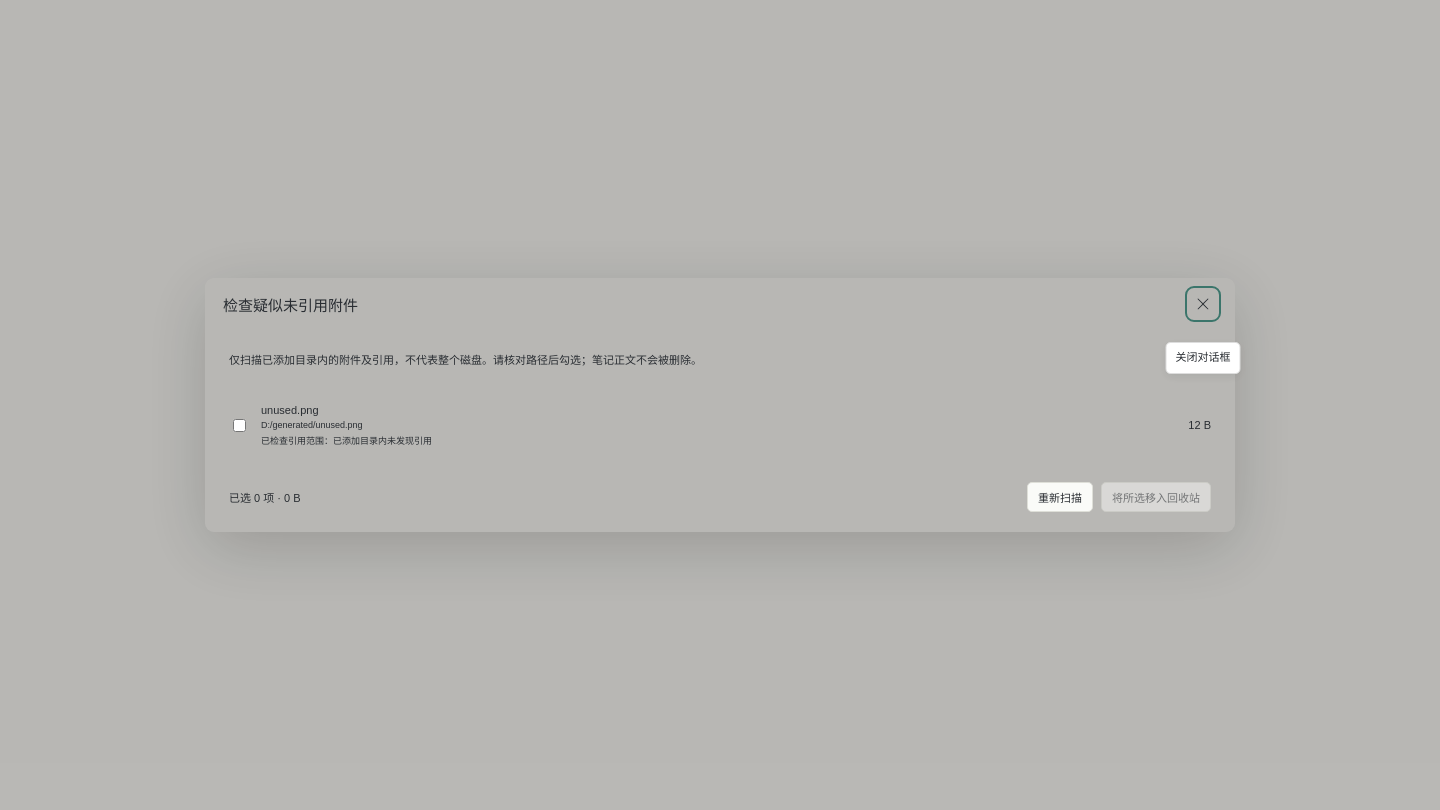
Test case: drops an old selection when a new scan finds its references uncertain
Click the checkbox labelled "unused.png D:/generated/unused.png 已检查引用范围：已添加目录内未发现引用 12 B": (240, 425) [233,419,246,432]
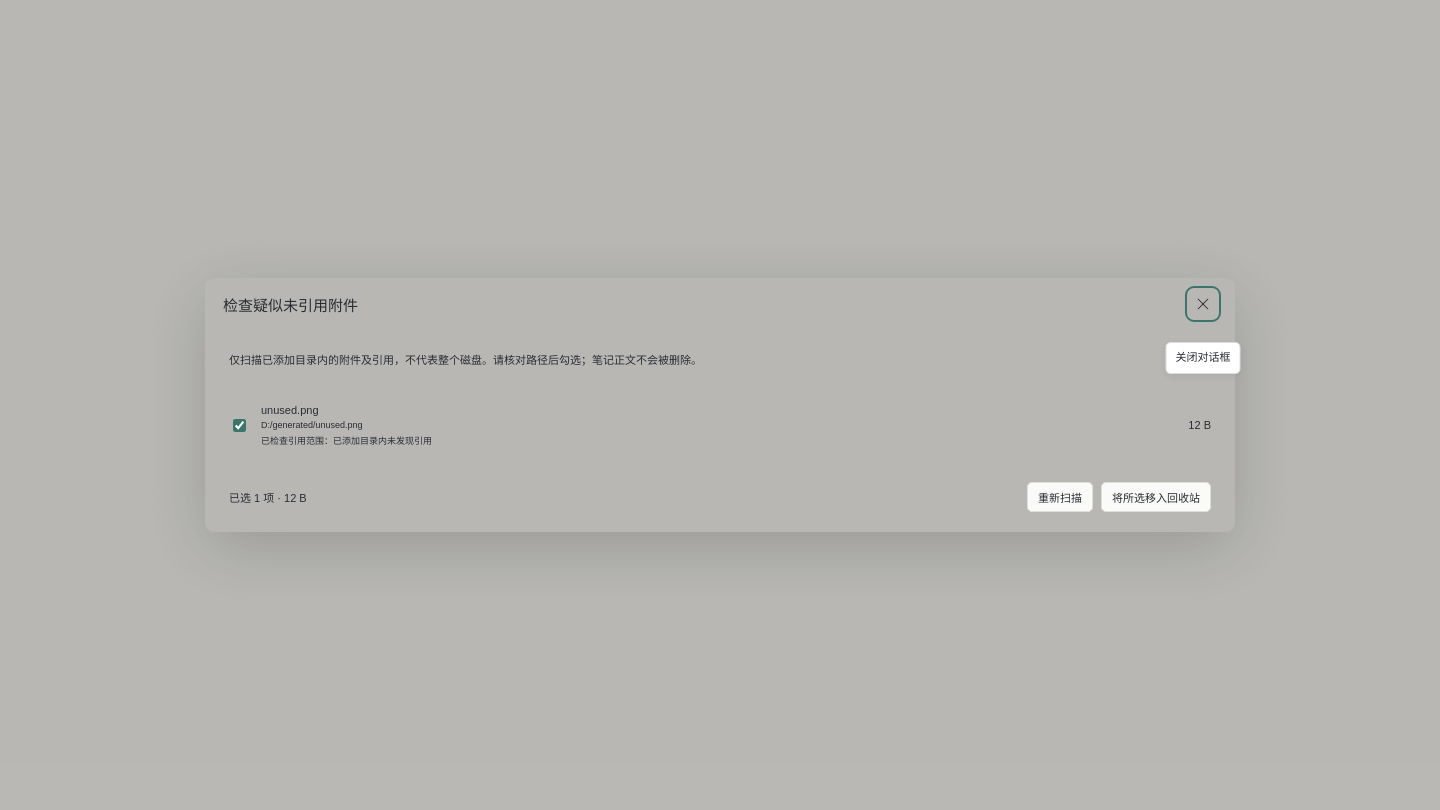
Now the text "已选 1 项" is shown, box [229,489,307,505]
Click the button "重新扫描": (1060, 497) [1027,482,1093,512]
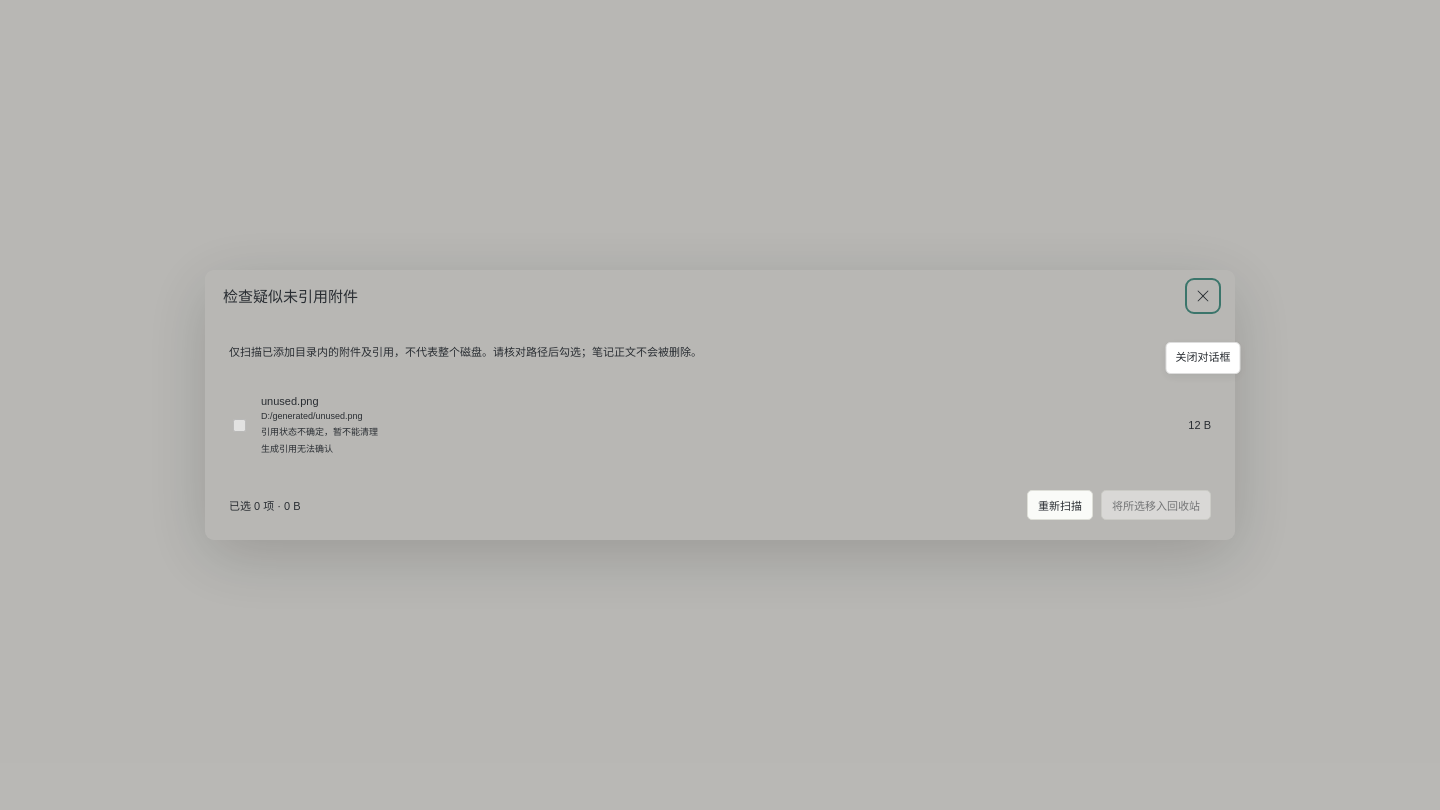
Now the checkbox is not checked, box [233,419,246,432]
Now the text "已选 0 项" is shown, box [229,497,300,513]
